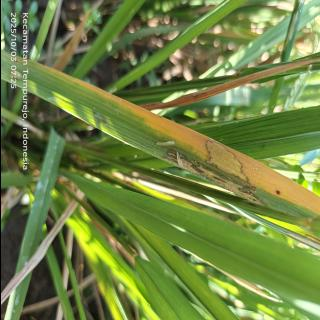Hawar-Daun: (47, 71, 319, 214)
